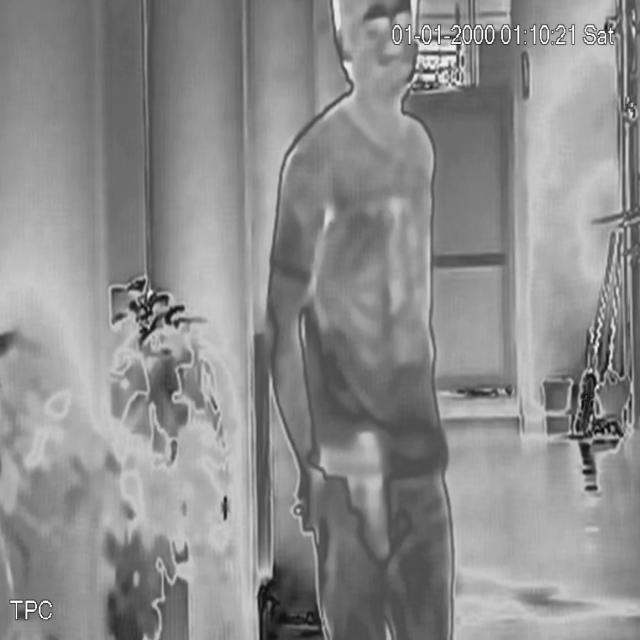Weapon: (312, 424, 402, 577)
